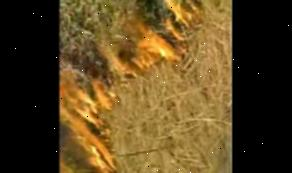fire: (60, 71, 115, 163), (107, 26, 181, 76)
